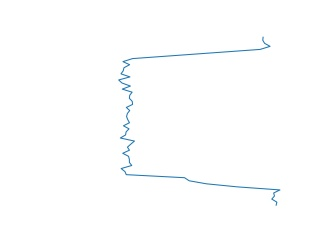distributaryChannelFill: (115, 37, 285, 206)
